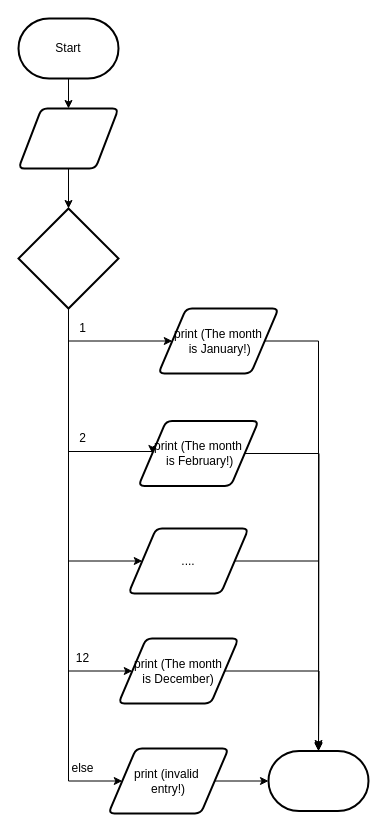
Some shapes in this 386 by 831 pixel diagram are drawn without their labels. Each missing label, with the box of its shape:
grade level: (17, 207, 119, 309)
Stop: (267, 750, 369, 812)
User enters number from 1-12: (17, 107, 119, 169)
